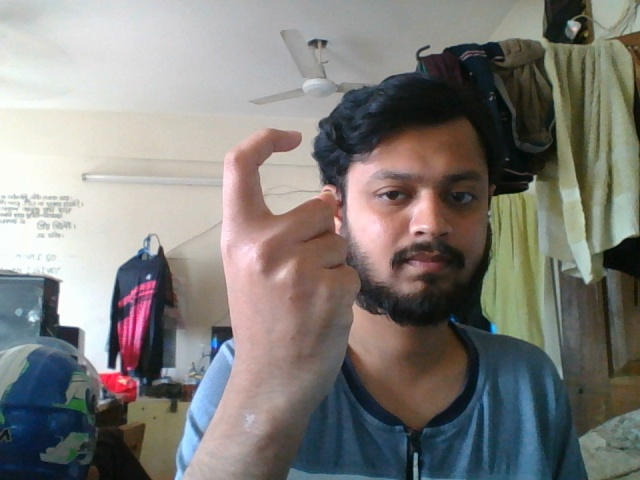e: (208, 117, 373, 461)
